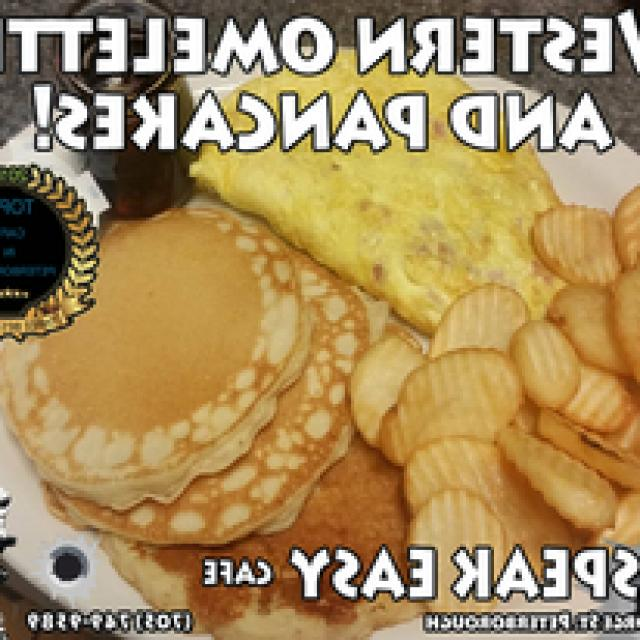Omelette: (211, 59, 575, 283)
Pancakes: (65, 180, 395, 603)
